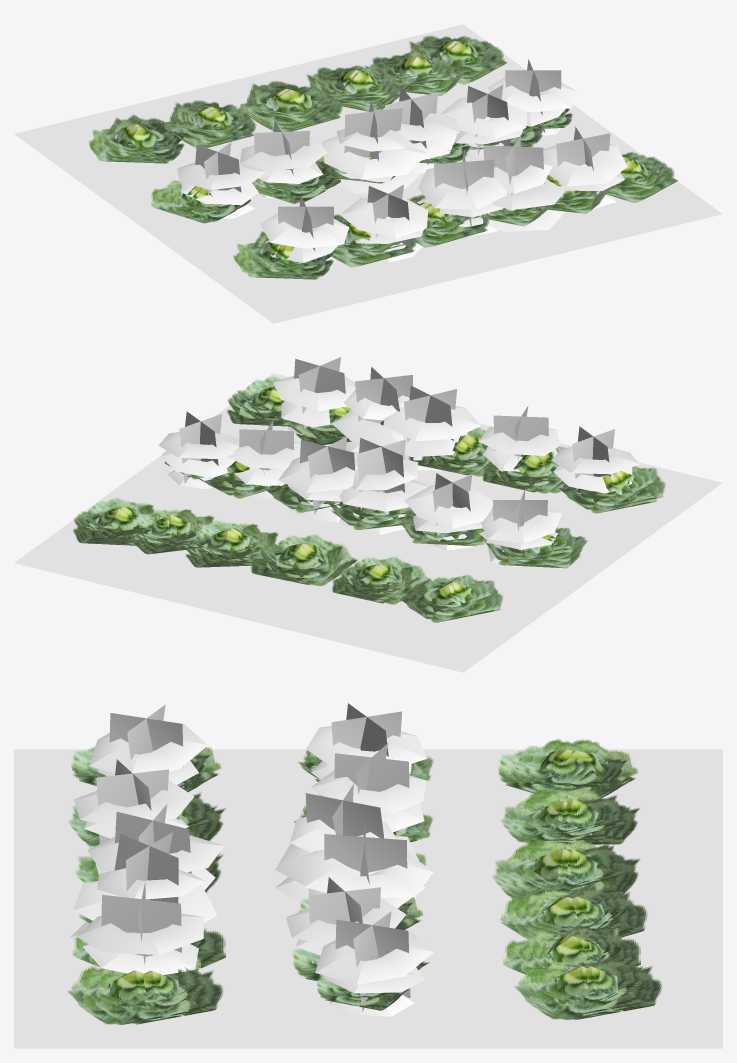
The model's file is cabbage_field.gltf.
The picture shows the model from 3 angles, top to bottom: view 1: azimuth 30°, elevation 25°; view 2: azimuth 150°, elevation 25°; view 3: azimuth 270°, elevation 25°; orthographic projection. The views are drawn at different scales.
Visible parts, largest first — view 1: ground, _1_lod0, _2_lod0, _3_lod0; view 2: ground, _1_lod0, _2_lod0, _3_lod0; view 3: ground, _1_lod0, _2_lod0, _3_lod0.
Boxes of the visible parts, x1=… form: ground: x1=14, y1=24, x2=722, y2=323; _1_lod0: x1=90, y1=39, x2=627, y2=270; _2_lod0: x1=89, y1=38, x2=678, y2=279; _3_lod0: x1=89, y1=35, x2=671, y2=275; ground: x1=14, y1=373, x2=722, y2=672; _1_lod0: x1=80, y1=357, x2=639, y2=617; _2_lod0: x1=76, y1=376, x2=665, y2=616; _3_lod0: x1=73, y1=380, x2=659, y2=622; ground: x1=14, y1=749, x2=722, y2=1048; _1_lod0: x1=70, y1=704, x2=647, y2=1016; _2_lod0: x1=67, y1=703, x2=652, y2=1025; _3_lod0: x1=79, y1=741, x2=662, y2=1024.
Size of the model in its own units: 1.23 by 0.1796 by 1.2.
Materials: 3 (1 with a texture image).
